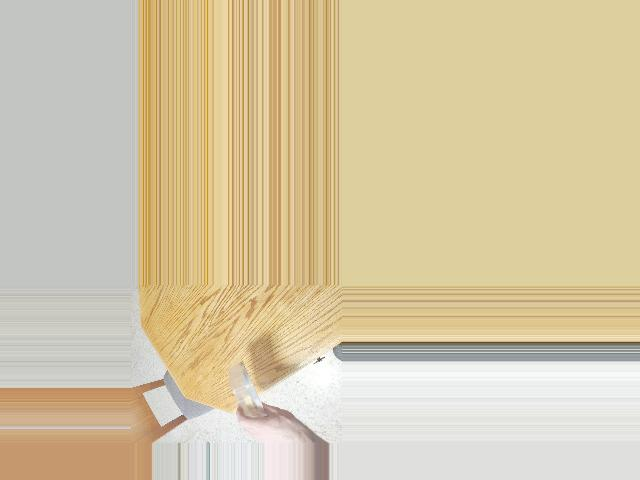cheese: (228, 359, 263, 425)
